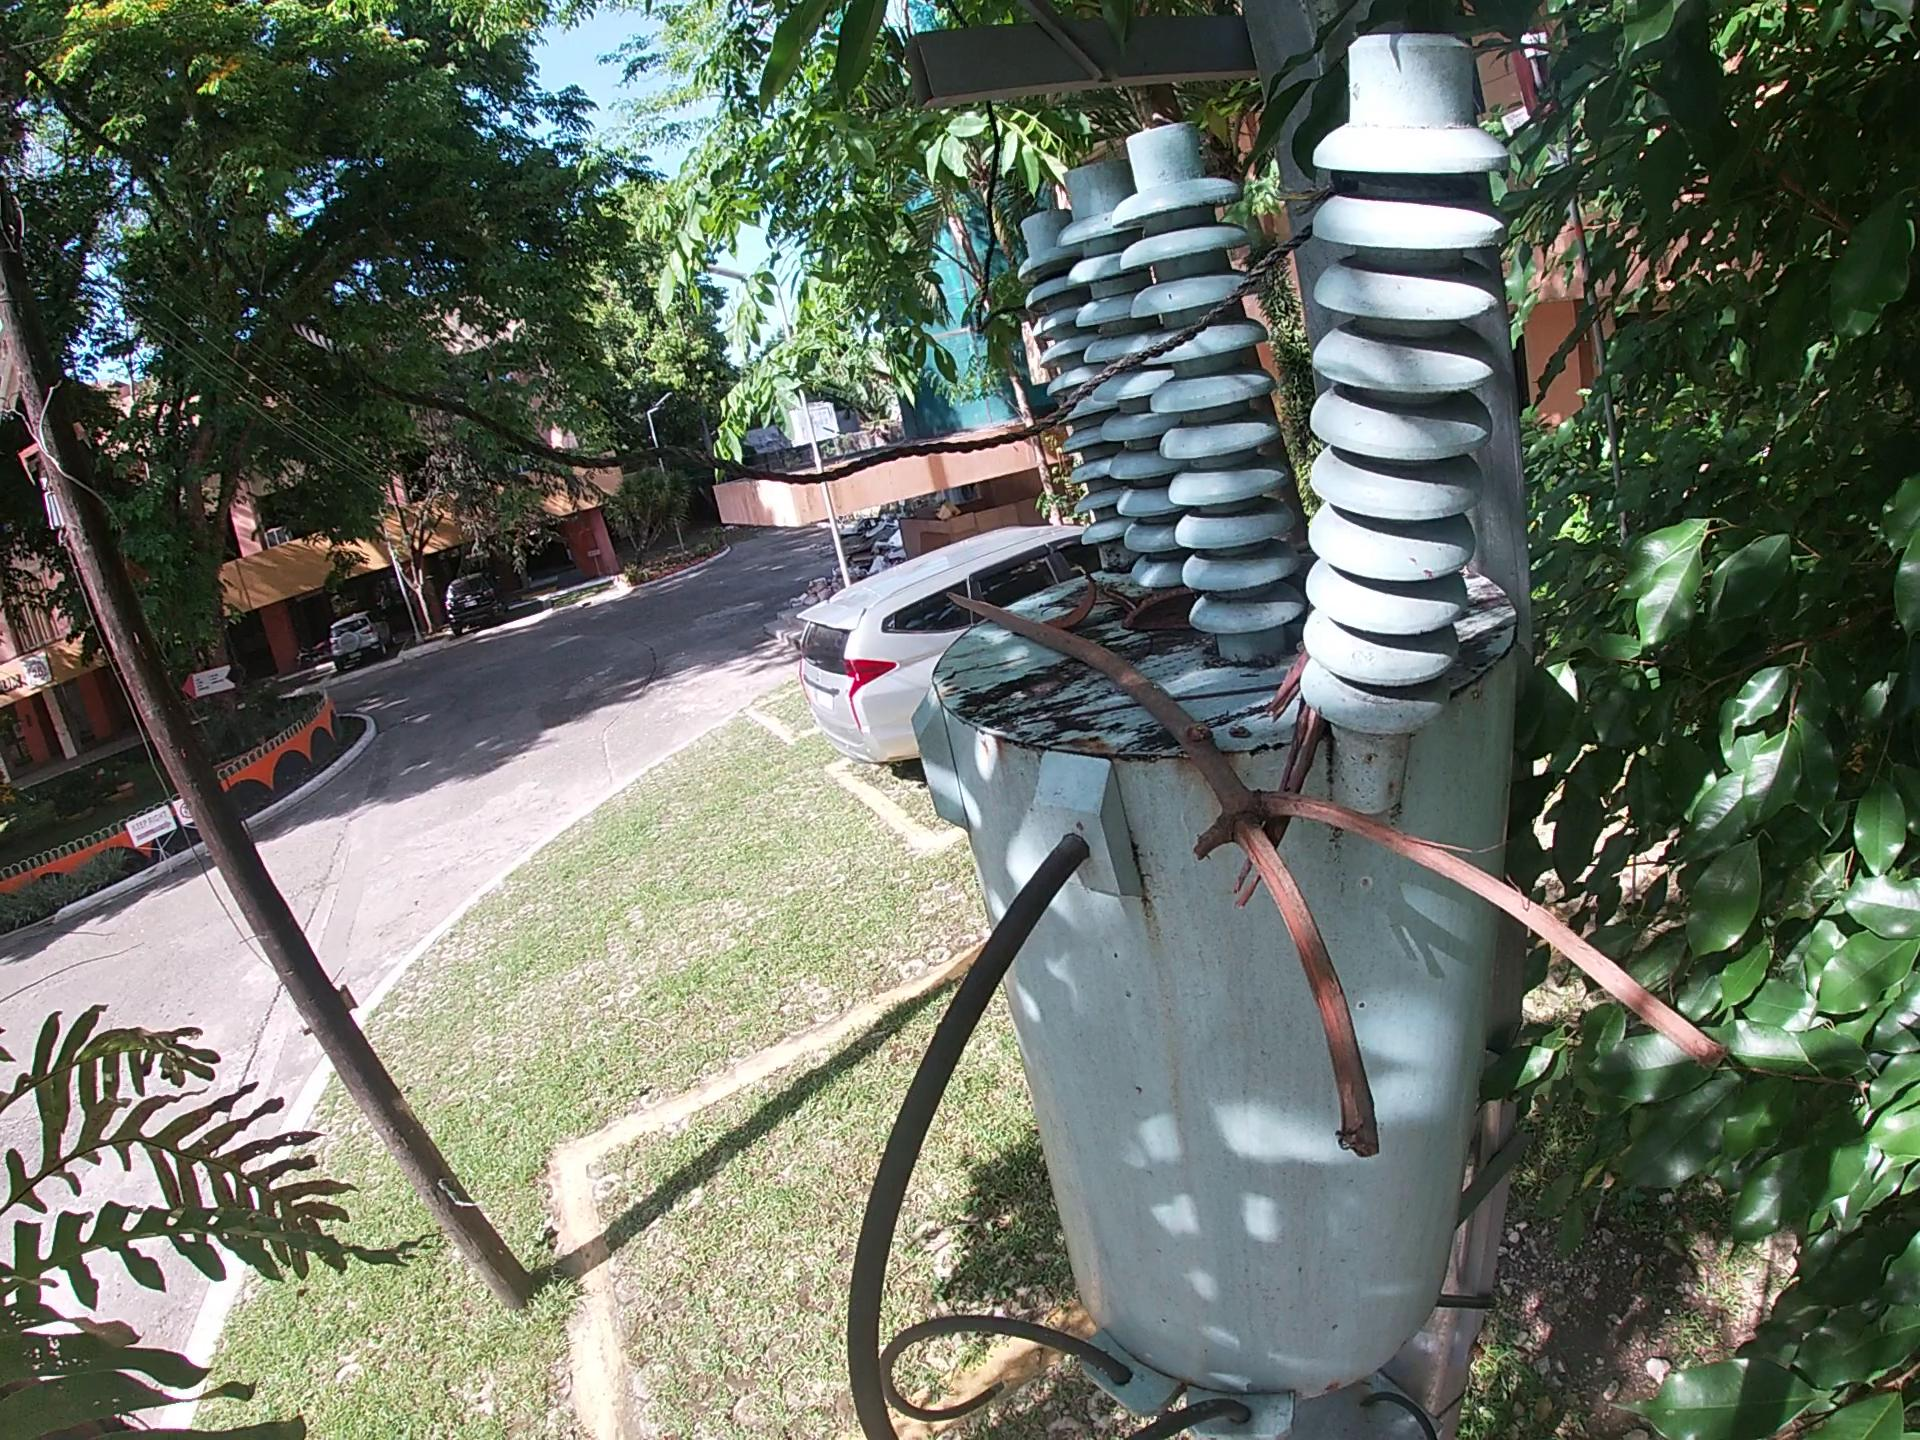mahogany fruit: (1036, 557, 1110, 628), (1120, 582, 1205, 640)
tree branch: (955, 593, 1754, 1128), (1225, 666, 1309, 936), (1011, 672, 1288, 734), (1098, 579, 1144, 613), (1288, 532, 1324, 555)
